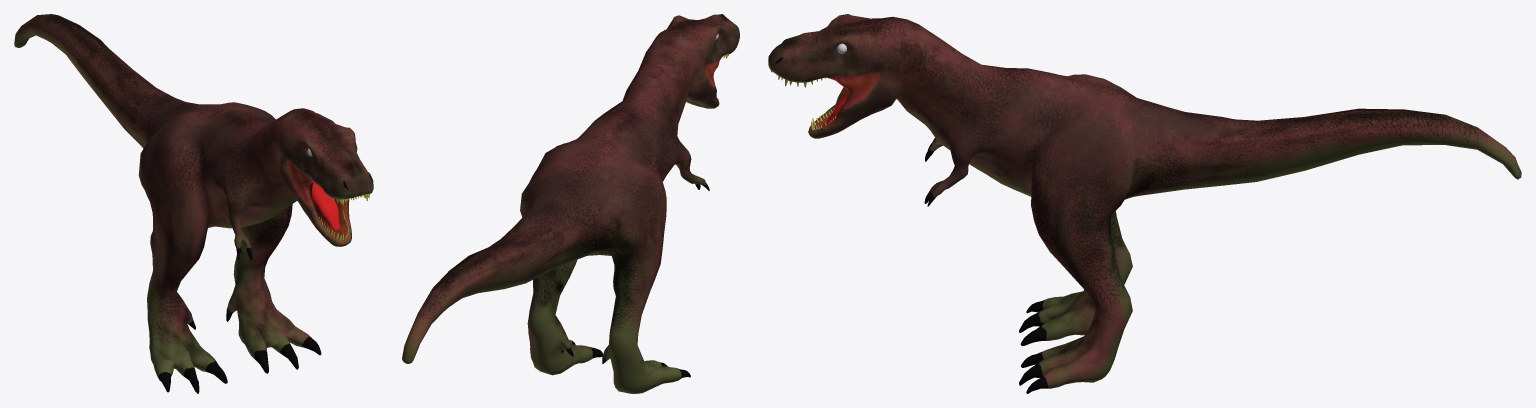
File: t-rexretopod.obj
3 views of the same model, side by side, from view 1: azimuth 30°, elevation 25°; view 2: azimuth 150°, elevation 25°; view 3: azimuth 270°, elevation 25° (orthographic). The views are drawn at different scales.
Visible parts, largest first — view 1: Retopo_Plane.003, Tongue_Cube.001; view 2: Retopo_Plane.003; view 3: Retopo_Plane.003.
Part boxes in pixels (box(x1,y1,x2,y2)): Retopo_Plane.003: box(14, 14, 373, 393); Tongue_Cube.001: box(312, 183, 339, 230); Retopo_Plane.003: box(402, 14, 739, 393); Retopo_Plane.003: box(768, 14, 1521, 393).
Size of the model in its own units: 7.1 by 13.71 by 27.45.
Materials: 4 (1 with a texture image).
